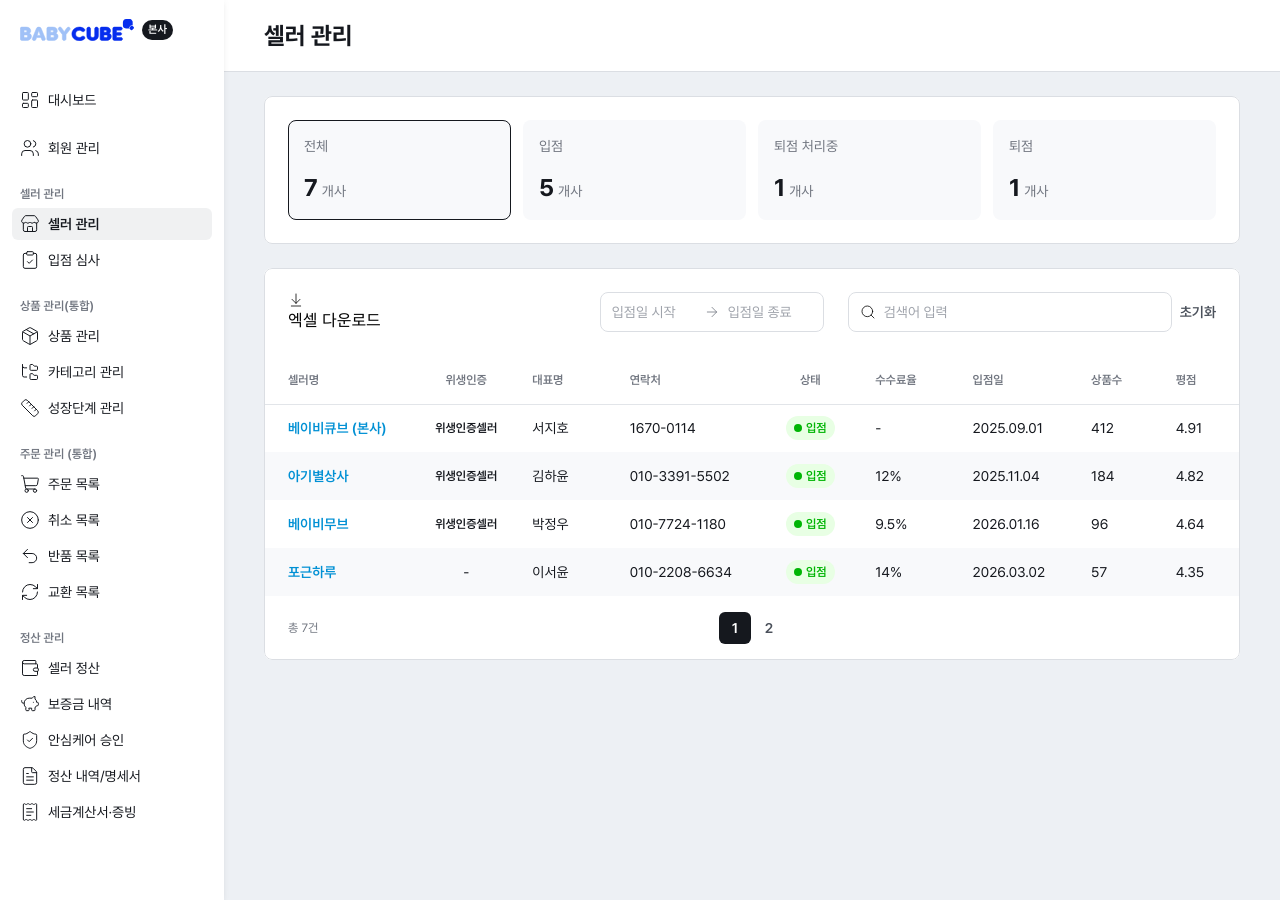
Test: SellerListPage (S03 셀러 관리) › 상세 진입과 미리보기 모달 › 셀러명을 누르면 셀러 코드와 상태 설명까지 보여준다
Click the button with aria-label "퇴점 처리중 1개사" at coordinates (870, 170), box [758,120,981,220]
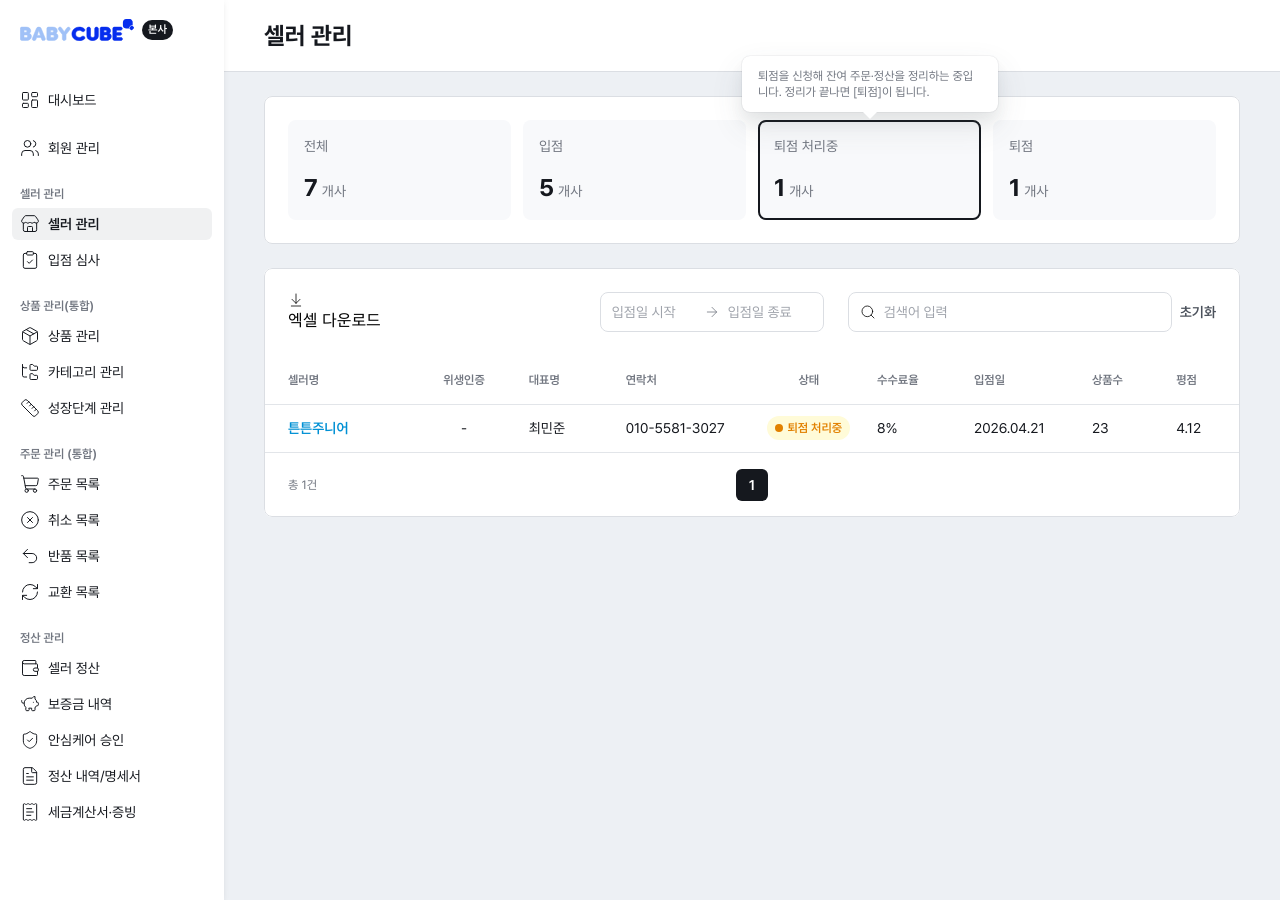
Click the button "튼튼주니어" at coordinates (318, 428), box [288,416,348,440]
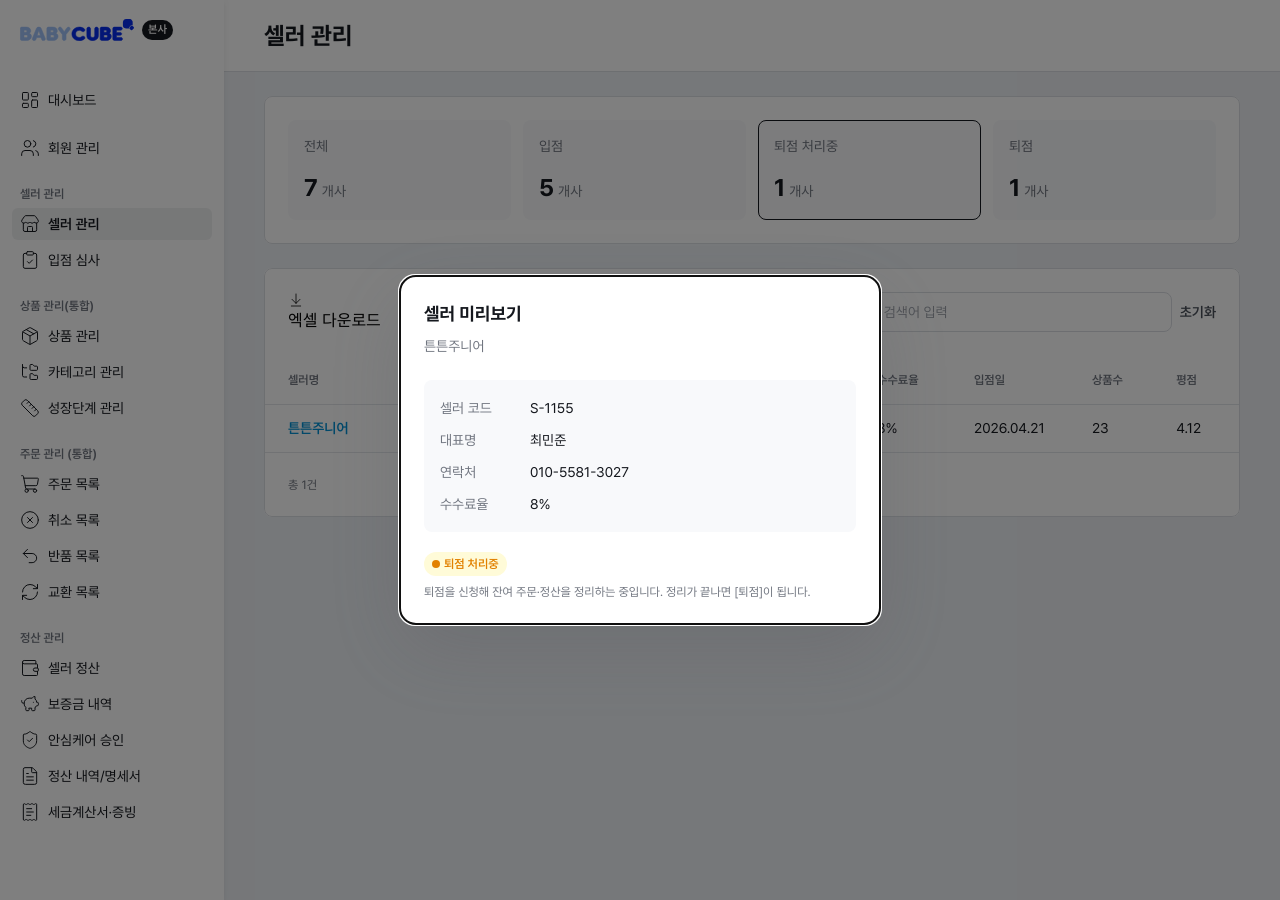
Now the text "S-1155" is shown, box [530,396,574,420]
Now the text "010-5581-3027" is shown, box [530,460,629,484]
Now the text "8%" is shown, box [530,492,551,516]
